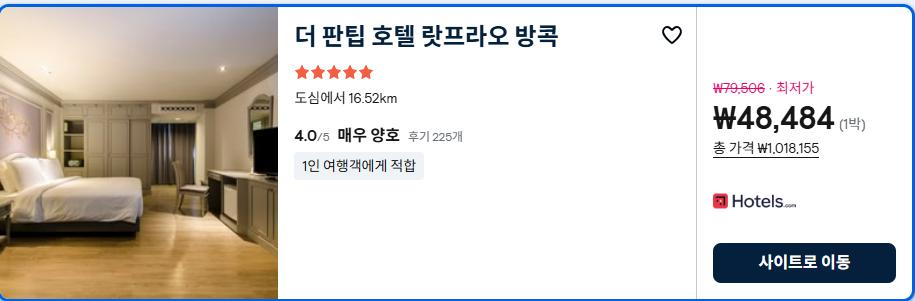button: (714, 243, 894, 284), (660, 20, 682, 43)
